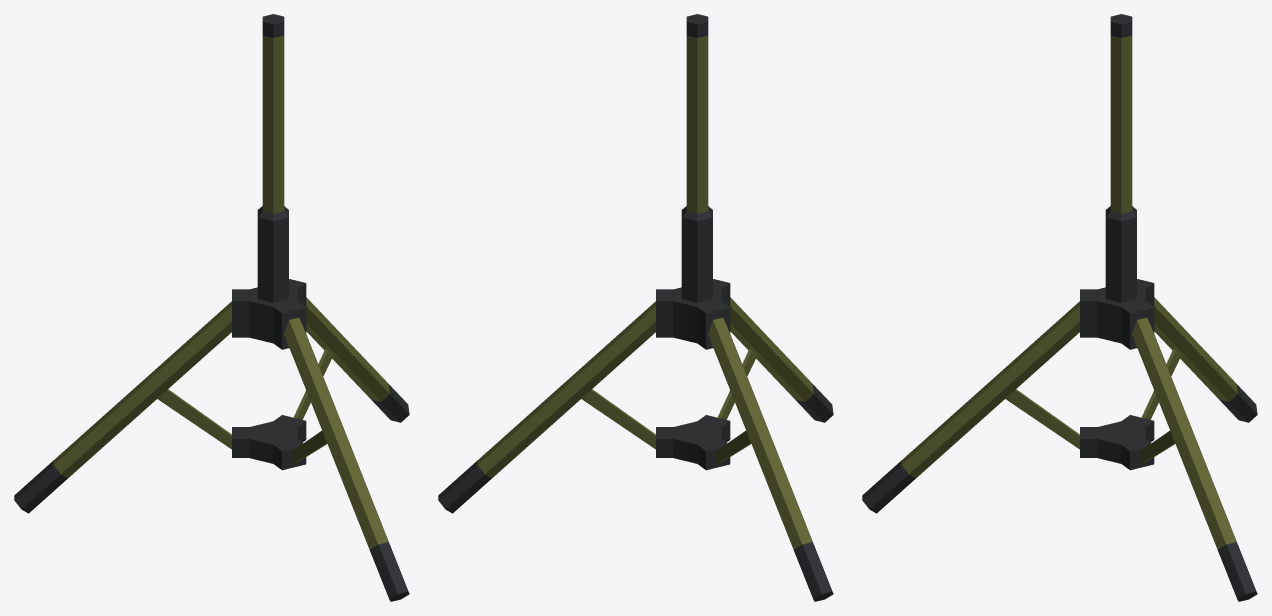
File: SM_Prop_Light_Portable_01.fbx
3 views of the same model, side by side, from view 1: azimuth 30°, elevation 25°; view 2: azimuth 150°, elevation 25°; view 3: azimuth 270°, elevation 25° (orthographic).
Parts seen in each view (by area): view 1: SM_Prop_Light_Portable_01; view 2: SM_Prop_Light_Portable_01; view 3: SM_Prop_Light_Portable_01.
Part boxes in pixels (x1,y1,x2,y2): SM_Prop_Light_Portable_01: (14,14,409,601); SM_Prop_Light_Portable_01: (438,14,833,601); SM_Prop_Light_Portable_01: (862,14,1257,601).
Size of the model in its own units: 99.79 by 119 by 86.76.
